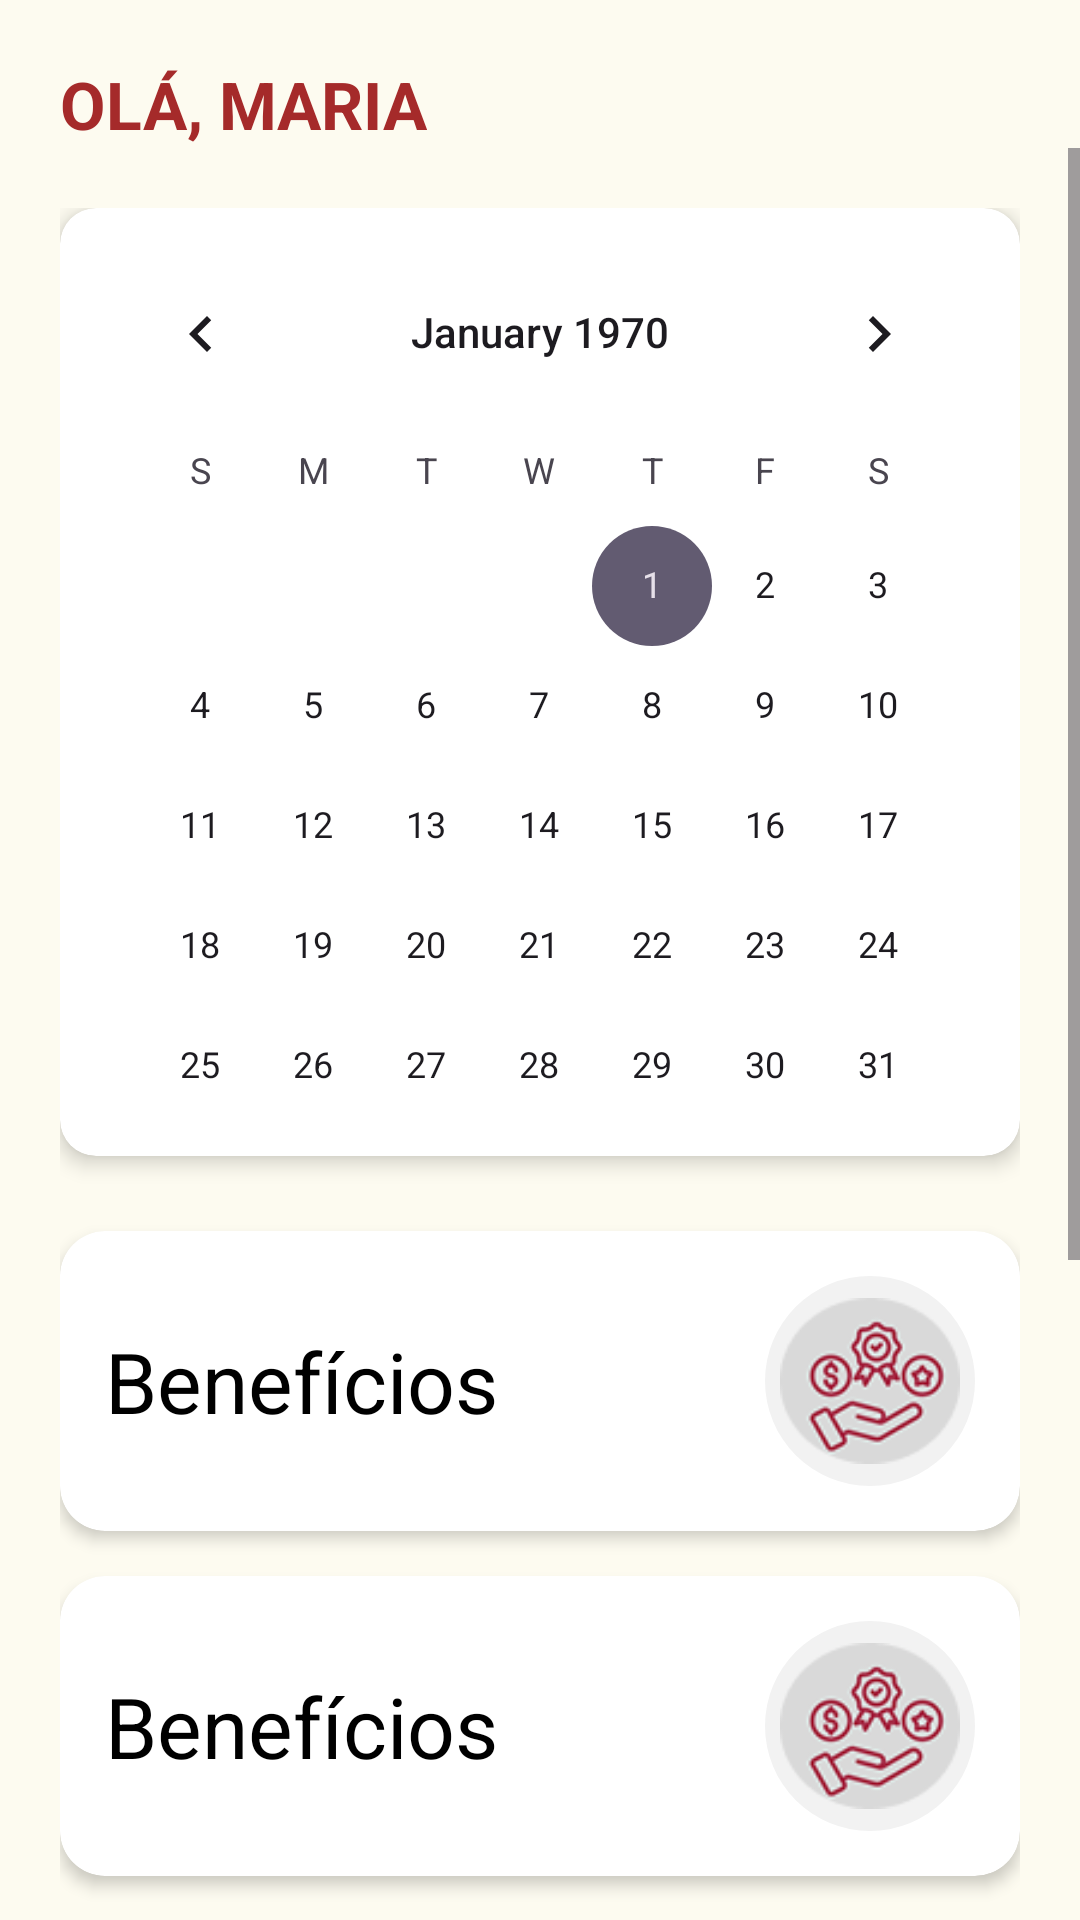

Where to tap for icons on this 1080px x 1920px app screen, as (x=x, y=y):
beneficios: (x=870, y=1381), (x=870, y=1726)
